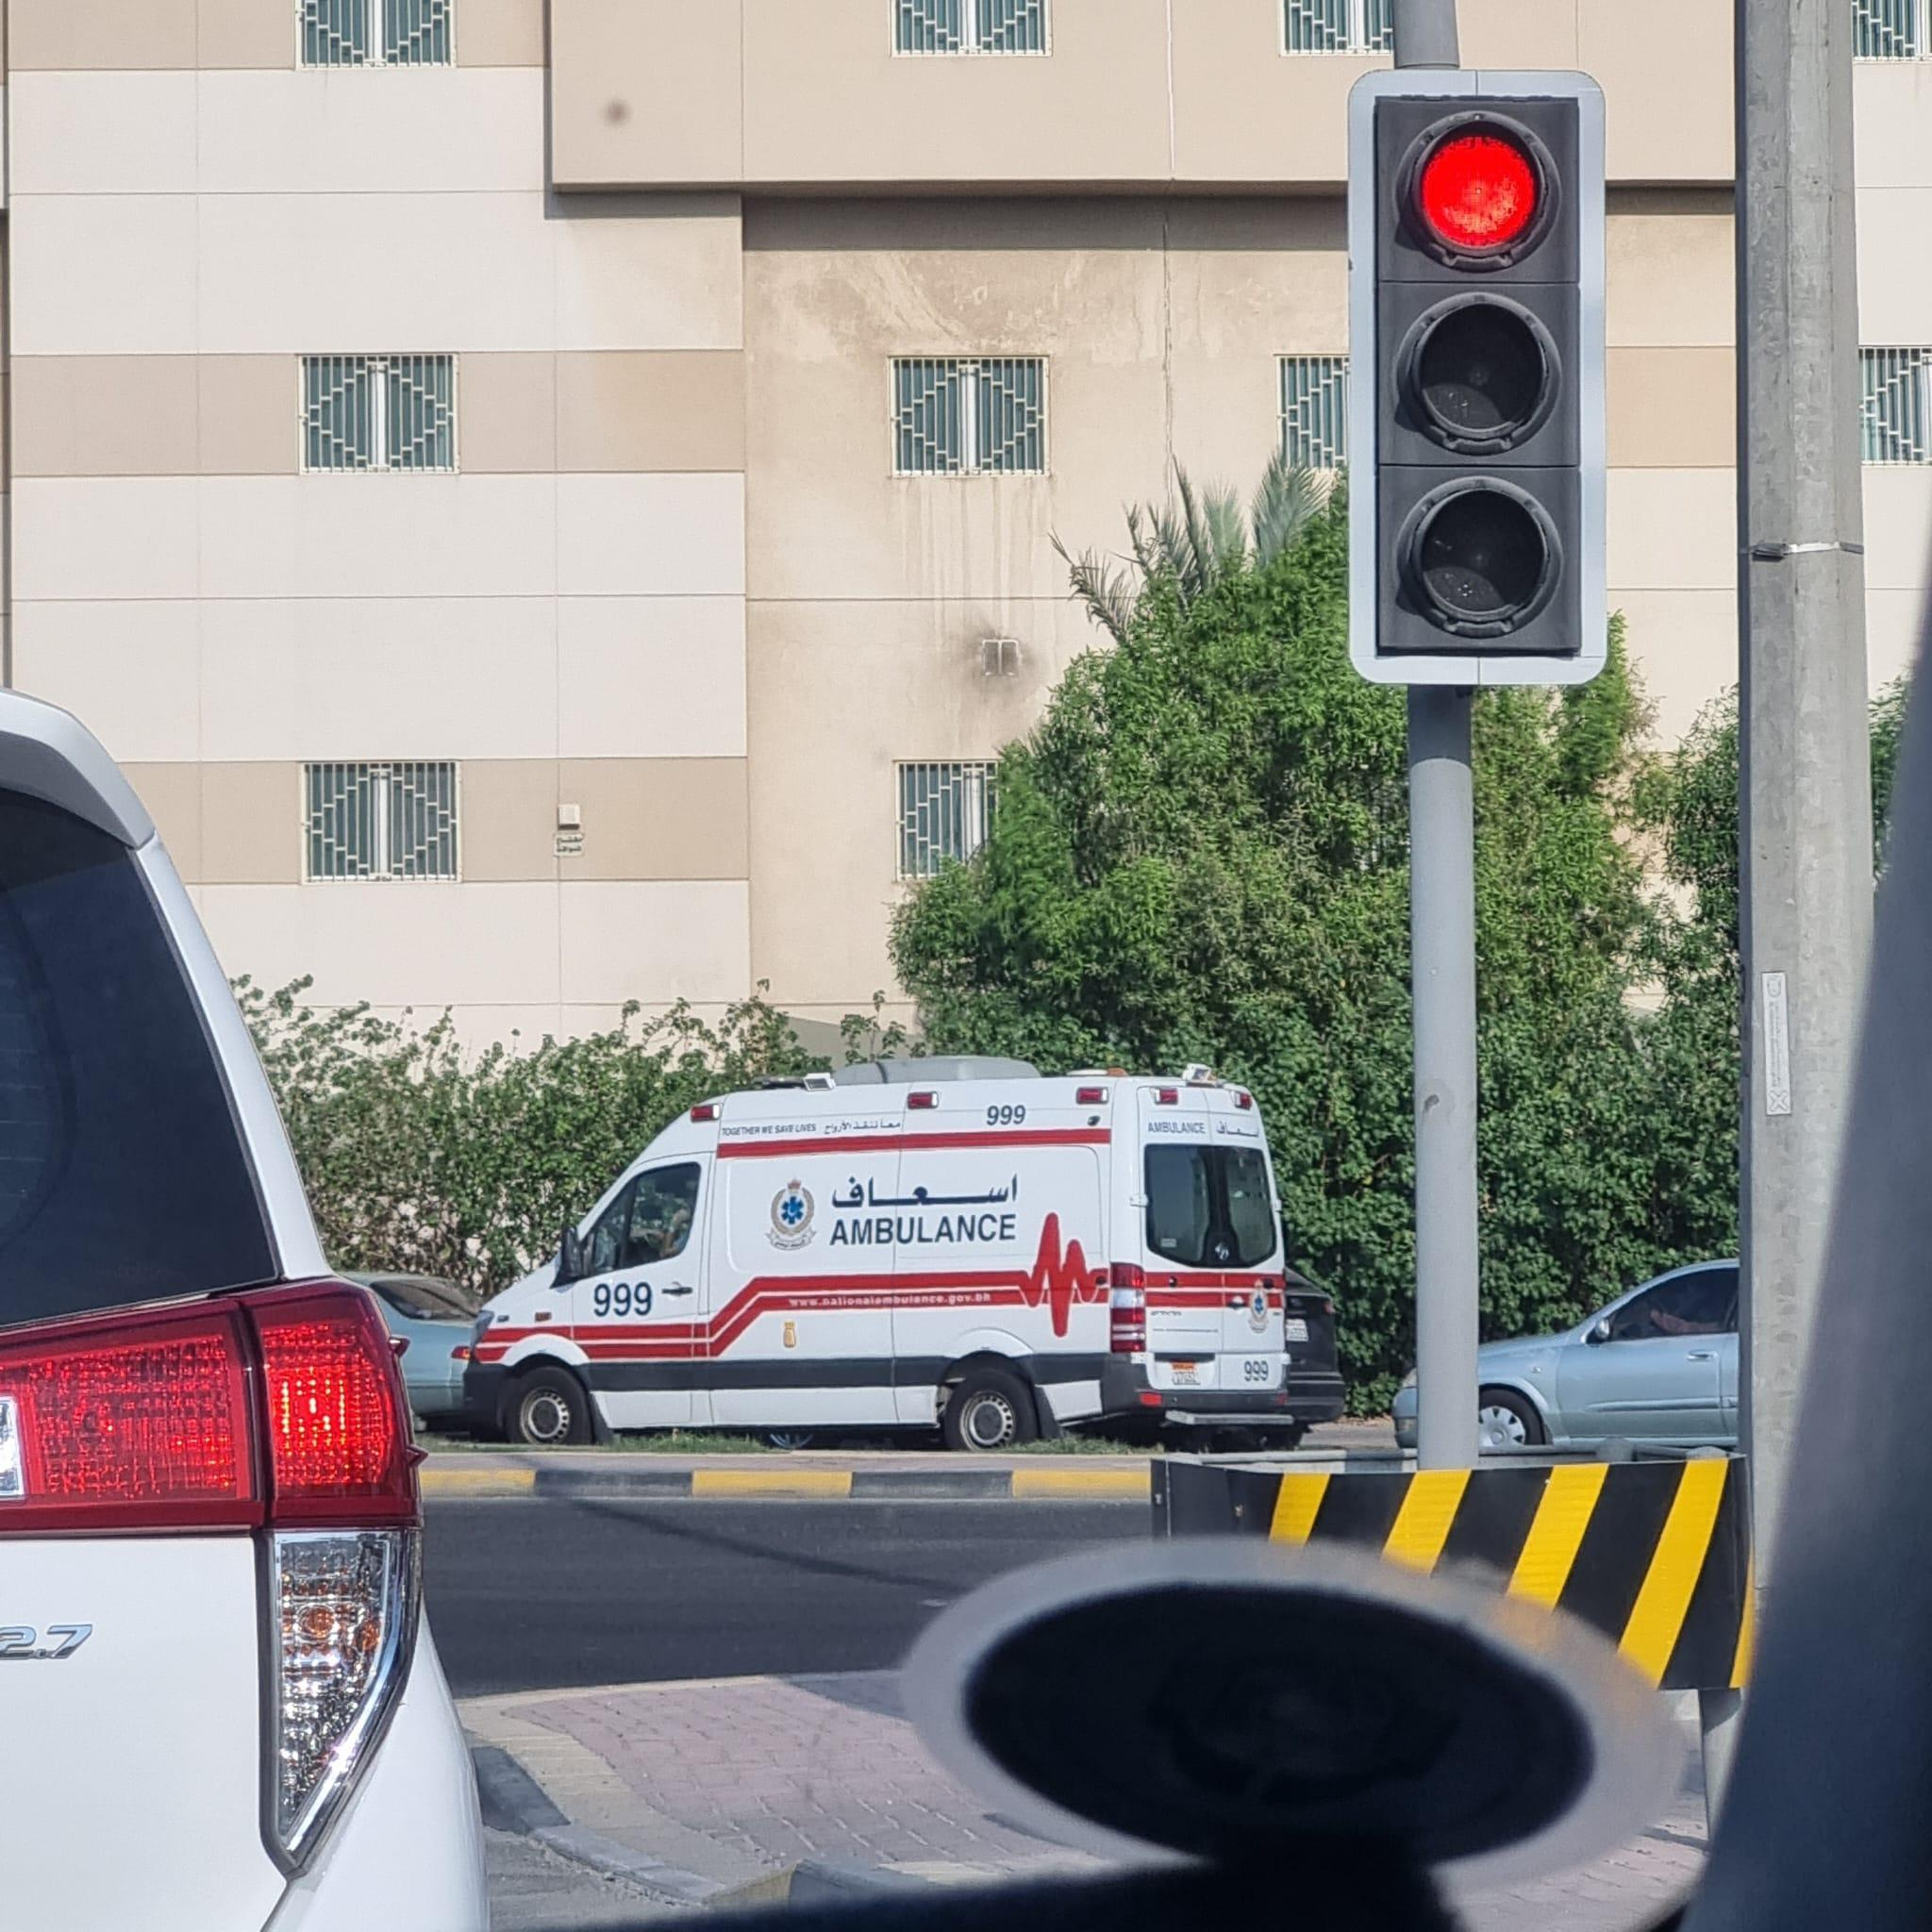ambulance_off: (465, 1054, 1295, 1445)
